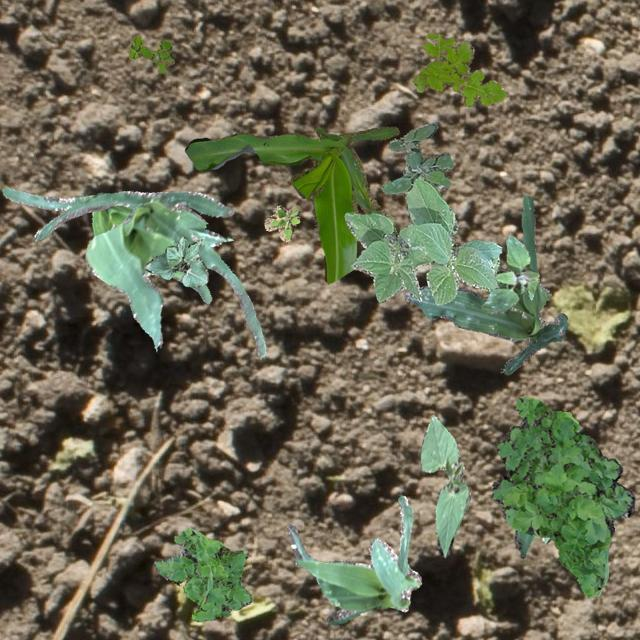crop: (34, 190, 264, 356), (184, 125, 398, 282), (404, 194, 566, 374), (344, 165, 501, 304), (286, 494, 420, 624), (2, 187, 225, 246), (418, 414, 469, 556), (144, 236, 206, 286), (514, 528, 536, 558), (542, 536, 550, 542)
weed: (491, 396, 634, 598), (152, 526, 250, 620), (412, 33, 507, 106), (380, 121, 452, 192), (480, 234, 538, 314), (128, 36, 174, 72), (264, 204, 298, 240)
